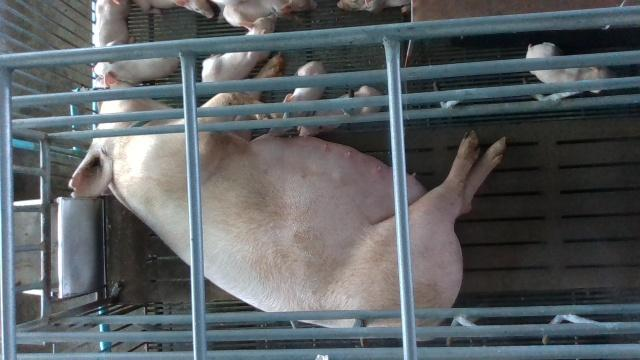piglet: (202, 13, 278, 82), (526, 42, 618, 93), (269, 61, 328, 137), (299, 85, 382, 137), (211, 0, 318, 26), (92, 56, 179, 87), (95, 0, 134, 47), (134, 0, 215, 18)
sow-sleep-lactate: (69, 52, 504, 341)
